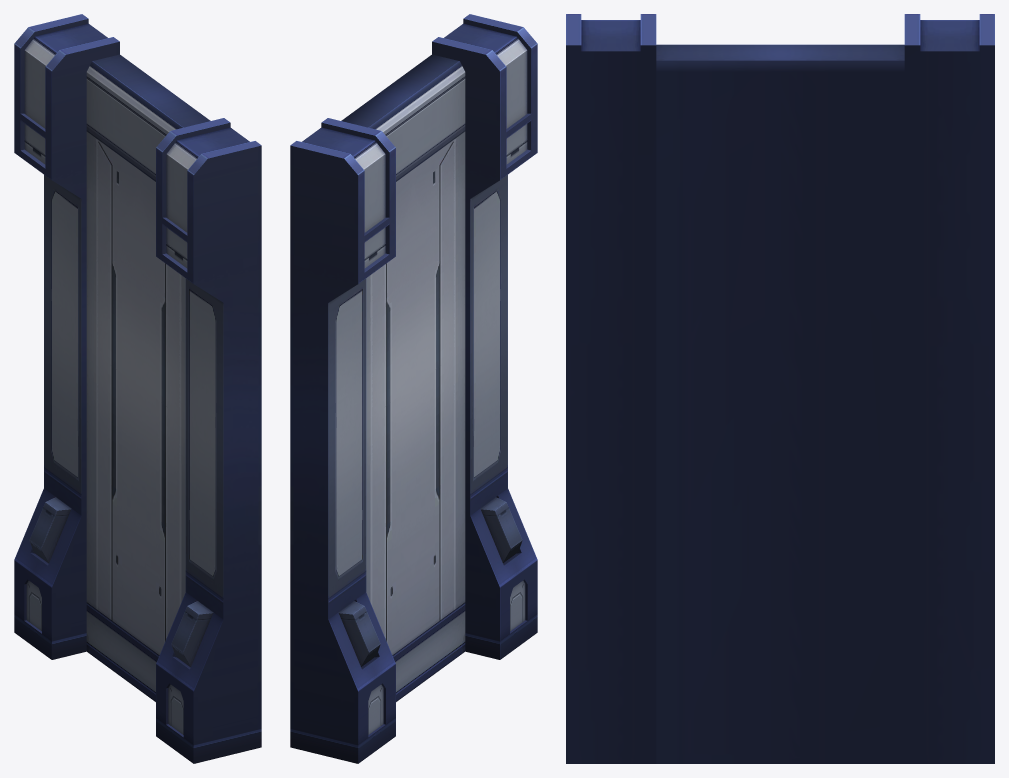
The model's file is my_carrier_01_pillar_02.glb.
3 renders of one model, left to right at view 1: azimuth 30°, elevation 25°; view 2: azimuth 150°, elevation 25°; view 3: azimuth 270°, elevation 25°, orthographic. The views are drawn at different scales.
Visible parts, largest first — view 1: my_carrier_01_pillar_02; view 2: my_carrier_01_pillar_02; view 3: my_carrier_01_pillar_02.
Part boxes in pixels (left/top/right/bottom): my_carrier_01_pillar_02: left=14, top=14, right=261, bottom=763; my_carrier_01_pillar_02: left=290, top=14, right=537, bottom=763; my_carrier_01_pillar_02: left=566, top=14, right=994, bottom=763.
Bounding box in the file's own units: 0.00518 × 0.0438 × 0.0237.
1 material, 1 textured.
